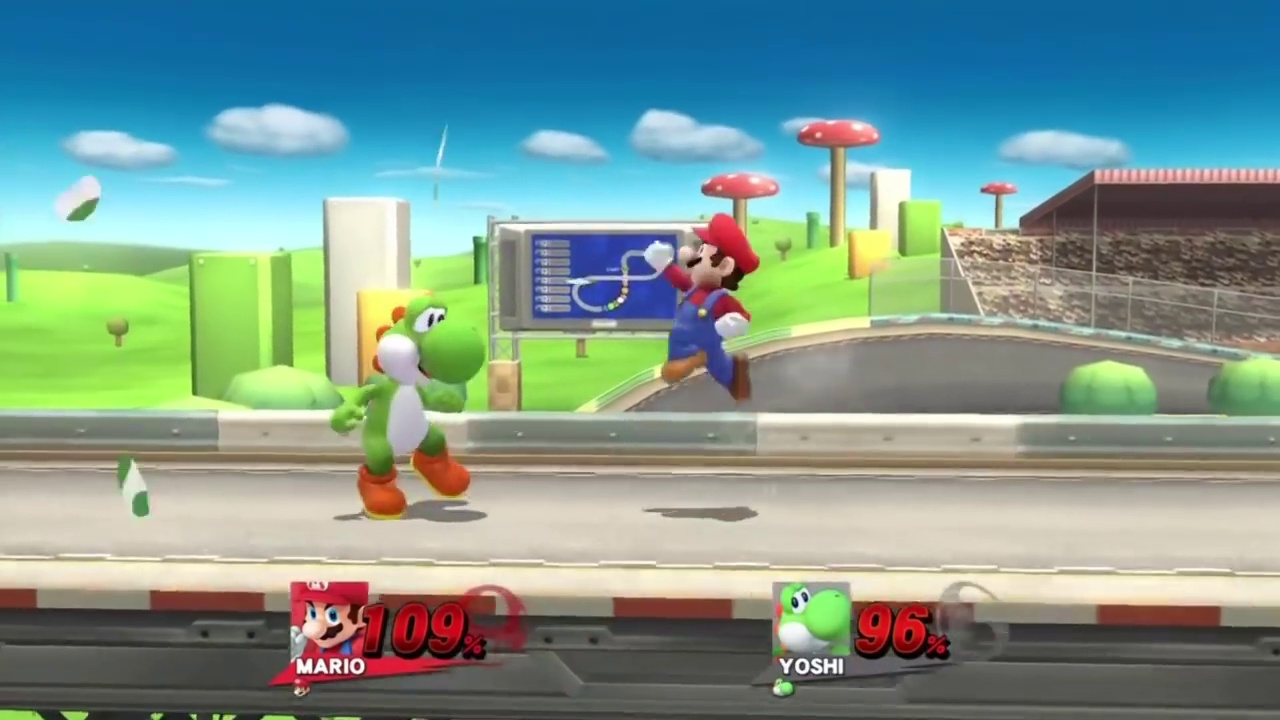Mario: (643, 214, 760, 403)
